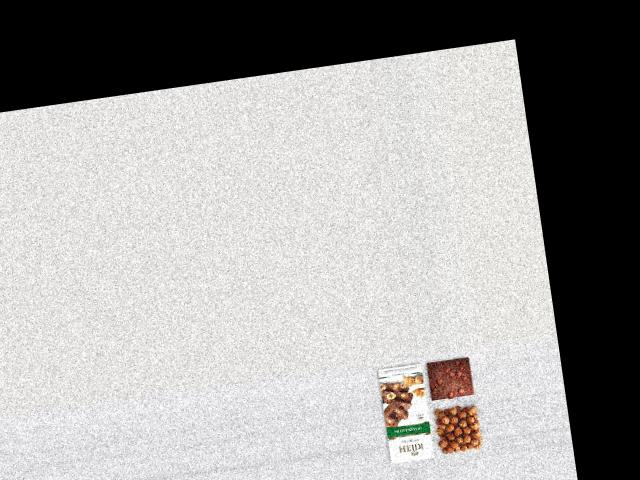chocolate: (424, 354, 479, 401)
